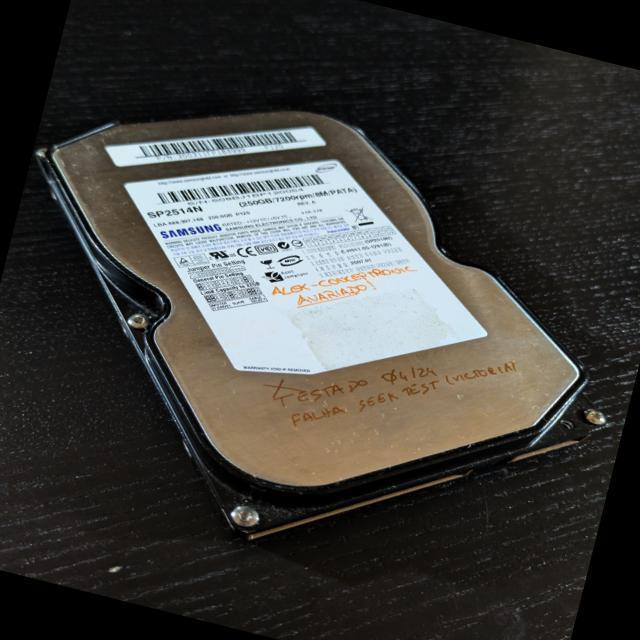DISK: (0, 44, 640, 621)
